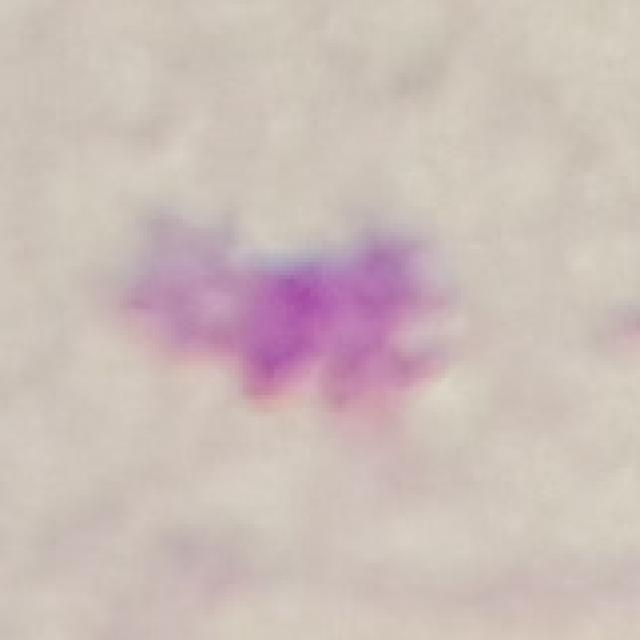non-sperm: (148, 239, 441, 399)
